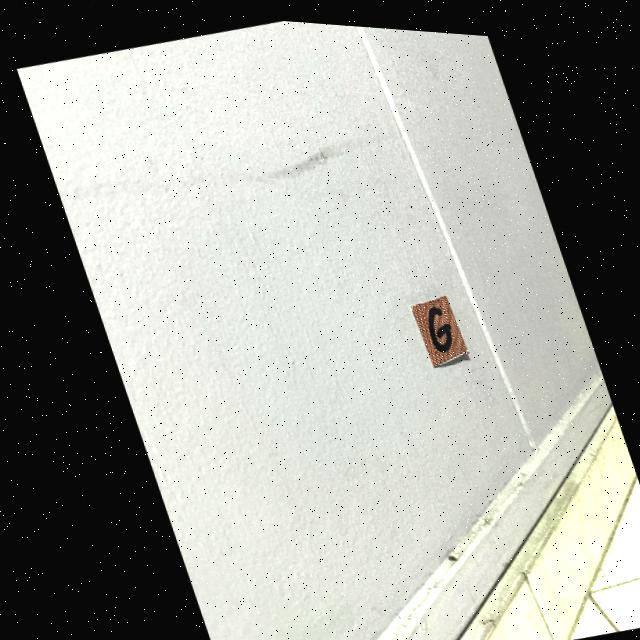G: (423, 300, 446, 345)
